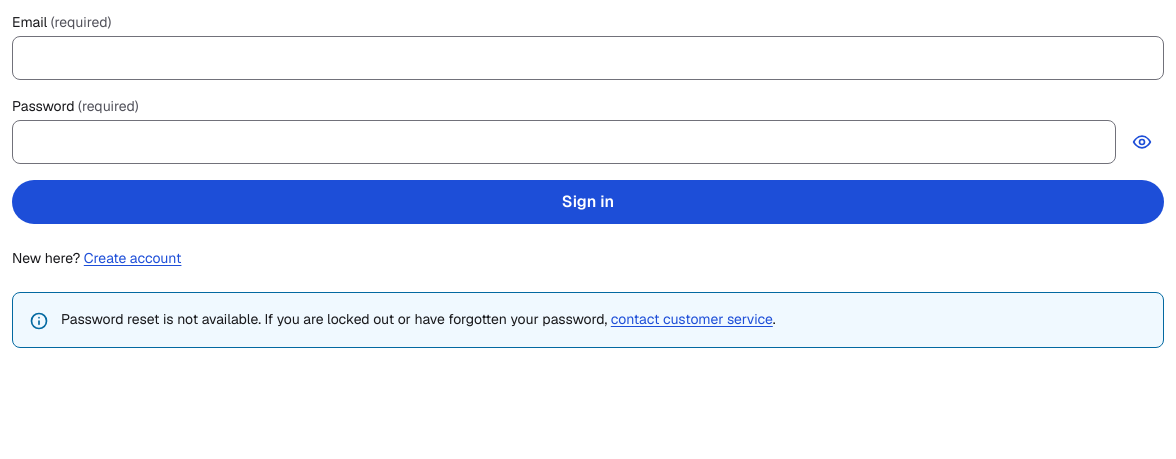
Test: SignInForm interactions › TOO_MANY_ATTEMPTS (rate limited) shows the identical R-10 text
Type "ada@example.com" into the field labelled "Email (required)" at (588, 58), box [12,36,1164,80]
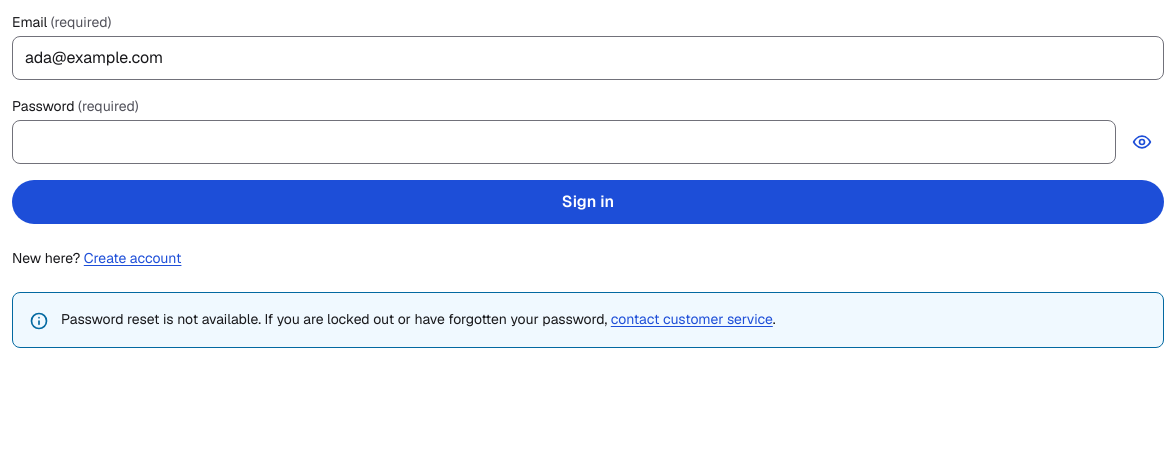
Type "correct horse battery" into the password field labelled "Password (required)" at (564, 142), box [12,120,1116,164]
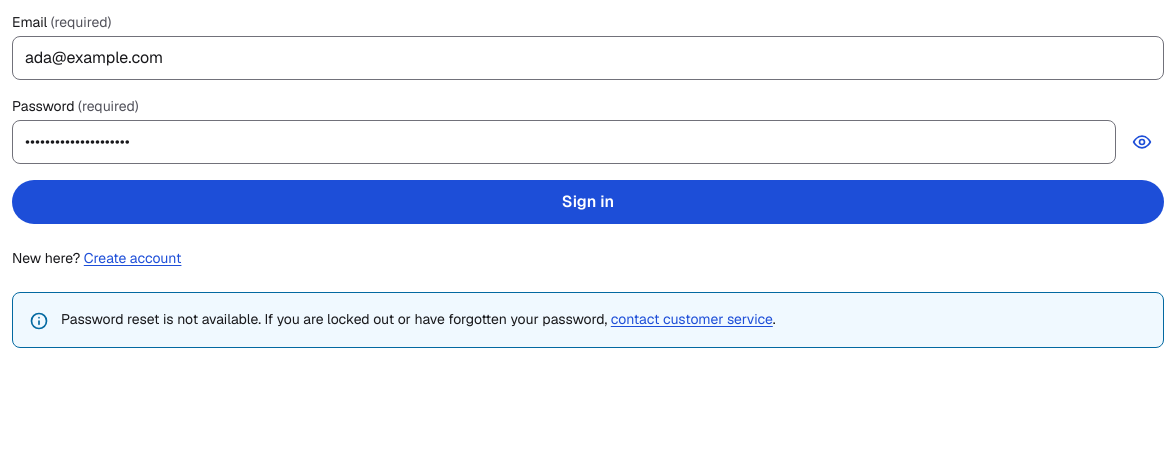
Submit the form with id "signin-form", box [12,12,1164,224]
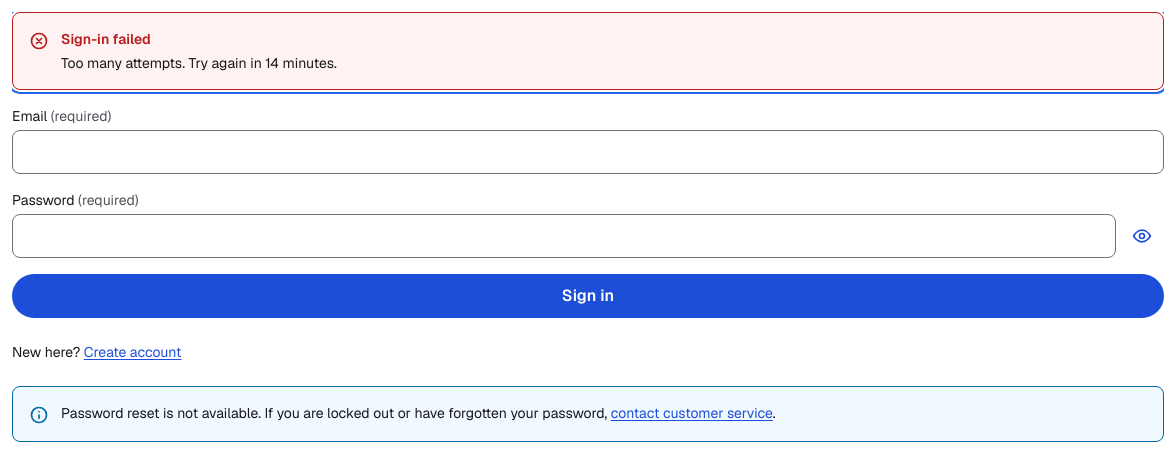
Result: the message with test id "signin-error-summary" shows "Too many attempts. Try again in 14 minutes." at [61,54,337,72]
